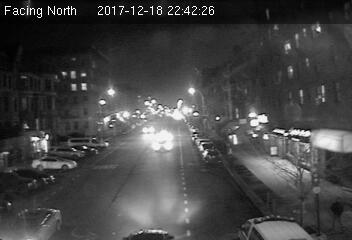car: (151, 138, 174, 153)
police: (237, 214, 307, 240)
